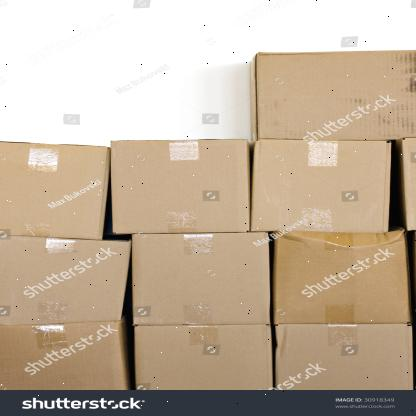box: (254, 49, 416, 140), (252, 139, 394, 234), (273, 230, 412, 325), (129, 233, 270, 326), (112, 138, 250, 232), (0, 238, 131, 326), (0, 140, 108, 240), (132, 325, 274, 392), (274, 324, 415, 390), (0, 319, 129, 387)
